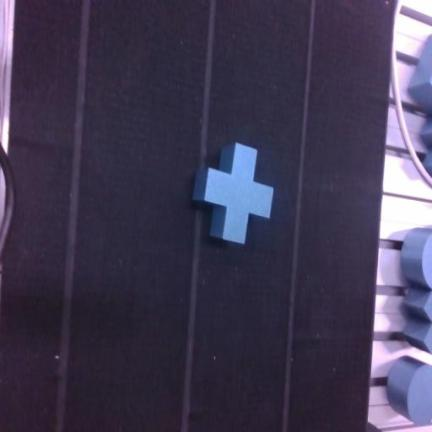cross: (194, 144, 273, 243)
